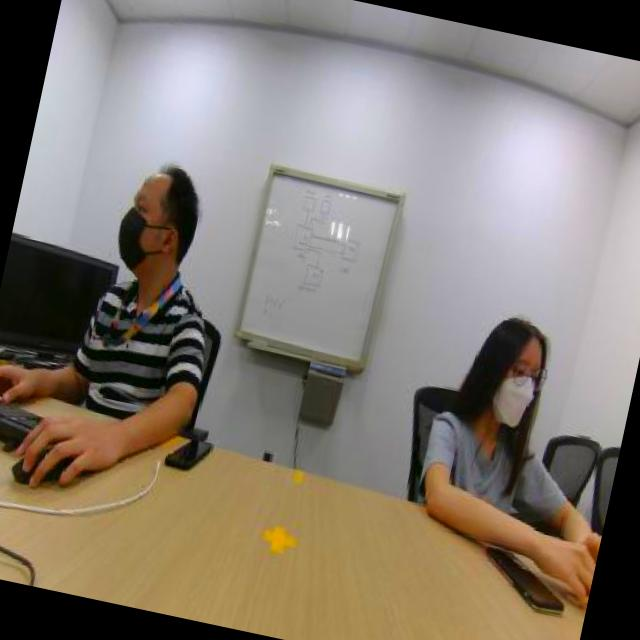Person: (399, 226, 640, 542), (49, 118, 258, 428)
